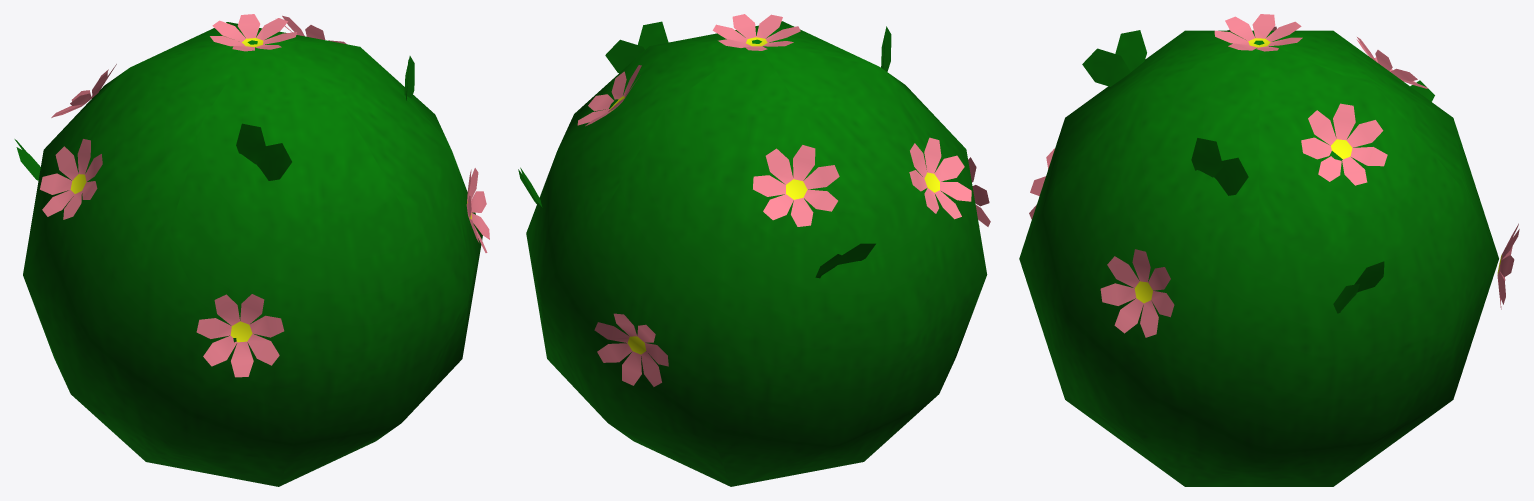
File: bush.002.fbx
The picture shows the model from 3 angles, left to right: view 1: azimuth 30°, elevation 25°; view 2: azimuth 150°, elevation 25°; view 3: azimuth 270°, elevation 25°; orthographic projection.
Parts seen in each view (by area): view 1: bush.002; view 2: bush.002; view 3: bush.002.
Part boxes in pixels (x1,y1,x2,y2): bush.002: (14,14,489,486); bush.002: (518,14,990,486); bush.002: (1019,14,1519,486).
Size of the model in its own units: 1.74 by 1.67 by 1.82.
